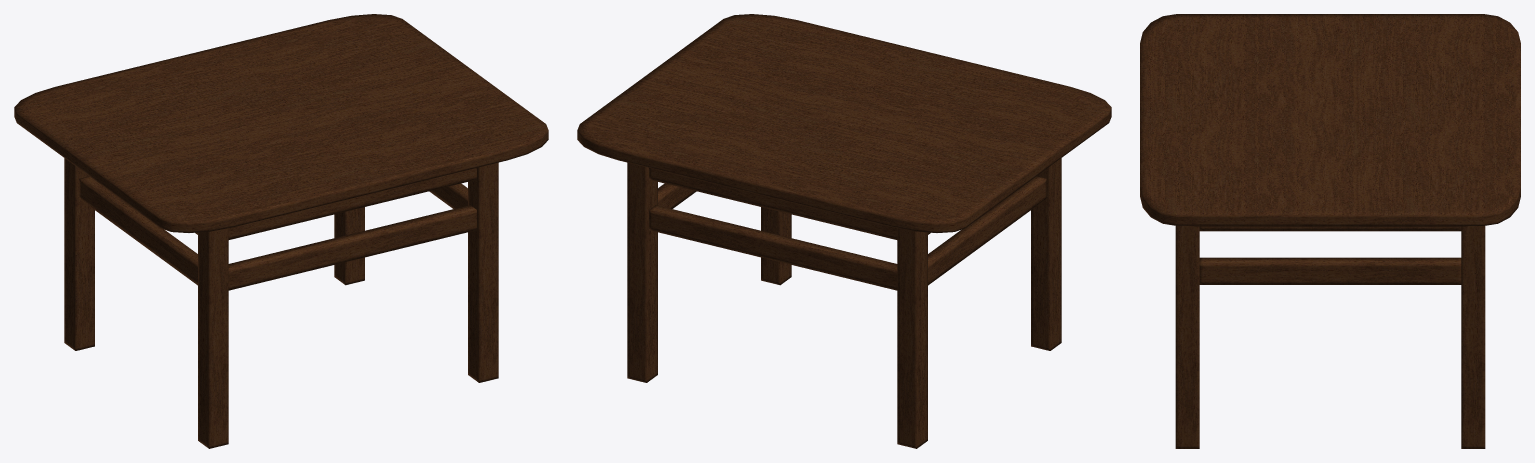
File: table.simple.fbx
3 renders of one model, left to right at view 1: azimuth 30°, elevation 25°; view 2: azimuth 150°, elevation 25°; view 3: azimuth 270°, elevation 25°, orthographic. The views are drawn at different scales.
Visible parts, largest first — view 1: Table.Main.001, DT.Ext.005, DT.Leg.002, DT.Leg.004, DT.Leg.001, DT.Ext.008, DT.Ext.001, DT.Leg.003, DT.Ext.006; view 2: Table.Main.001, DT.Ext.007, DT.Leg.001, DT.Leg.003, DT.Leg.002, DT.Ext.008, DT.Ext.002, DT.Leg.004, DT.Ext.006; view 3: Table.Main.001, DT.Ext.006, DT.Leg.003, DT.Leg.004, DT.Ext.003.
Part boxes in pixels (x1,y1,x2,y2): Table.Main.001: (14,14,548,232); DT.Ext.005: (228,205,476,290); DT.Leg.002: (198,228,228,448); DT.Leg.004: (468,162,498,382); DT.Leg.001: (64,158,94,350); DT.Ext.008: (79,176,197,285); DT.Ext.001: (228,168,476,239); DT.Leg.003: (334,207,364,285); DT.Ext.006: (429,183,467,208); Table.Main.001: (577,14,1111,232); DT.Ext.007: (649,205,897,290); DT.Leg.001: (897,228,927,448); DT.Leg.003: (627,162,657,382); DT.Leg.002: (1031,158,1061,350); DT.Ext.008: (928,176,1046,285); DT.Ext.002: (649,168,897,239); DT.Leg.004: (761,207,791,285); DT.Ext.006: (658,183,696,208); Table.Main.001: (1140,14,1520,225); DT.Ext.006: (1199,257,1461,284); DT.Leg.003: (1461,226,1485,448); DT.Leg.004: (1175,226,1199,448); DT.Ext.003: (1199,226,1461,231).
Bounding box in the file's own units: 100 × 60 × 80.
